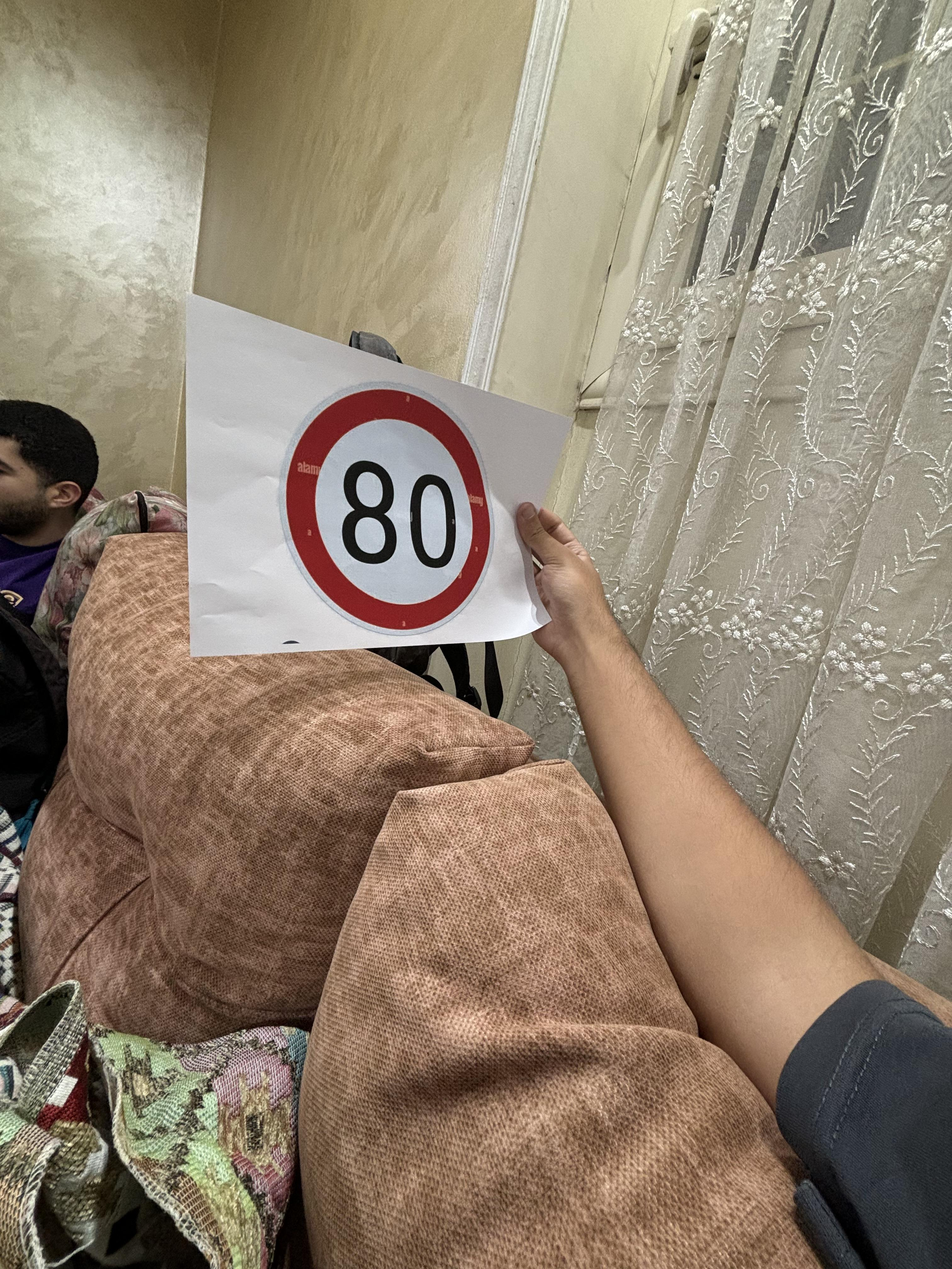80-Speed: (274, 382, 495, 637)
